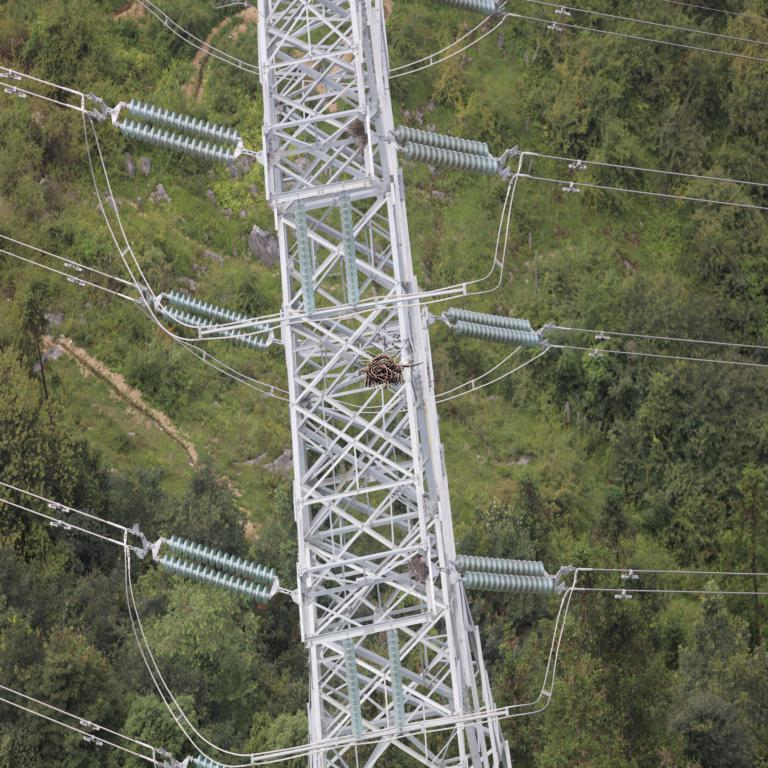nest: (367, 355, 403, 384), (407, 555, 431, 581), (352, 118, 374, 143)
